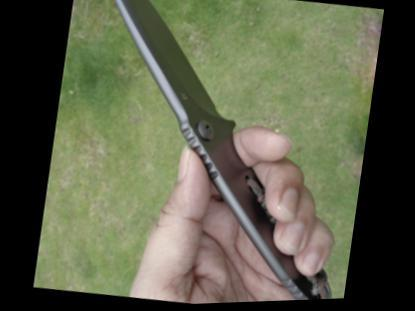knife: (43, 0, 378, 308)
